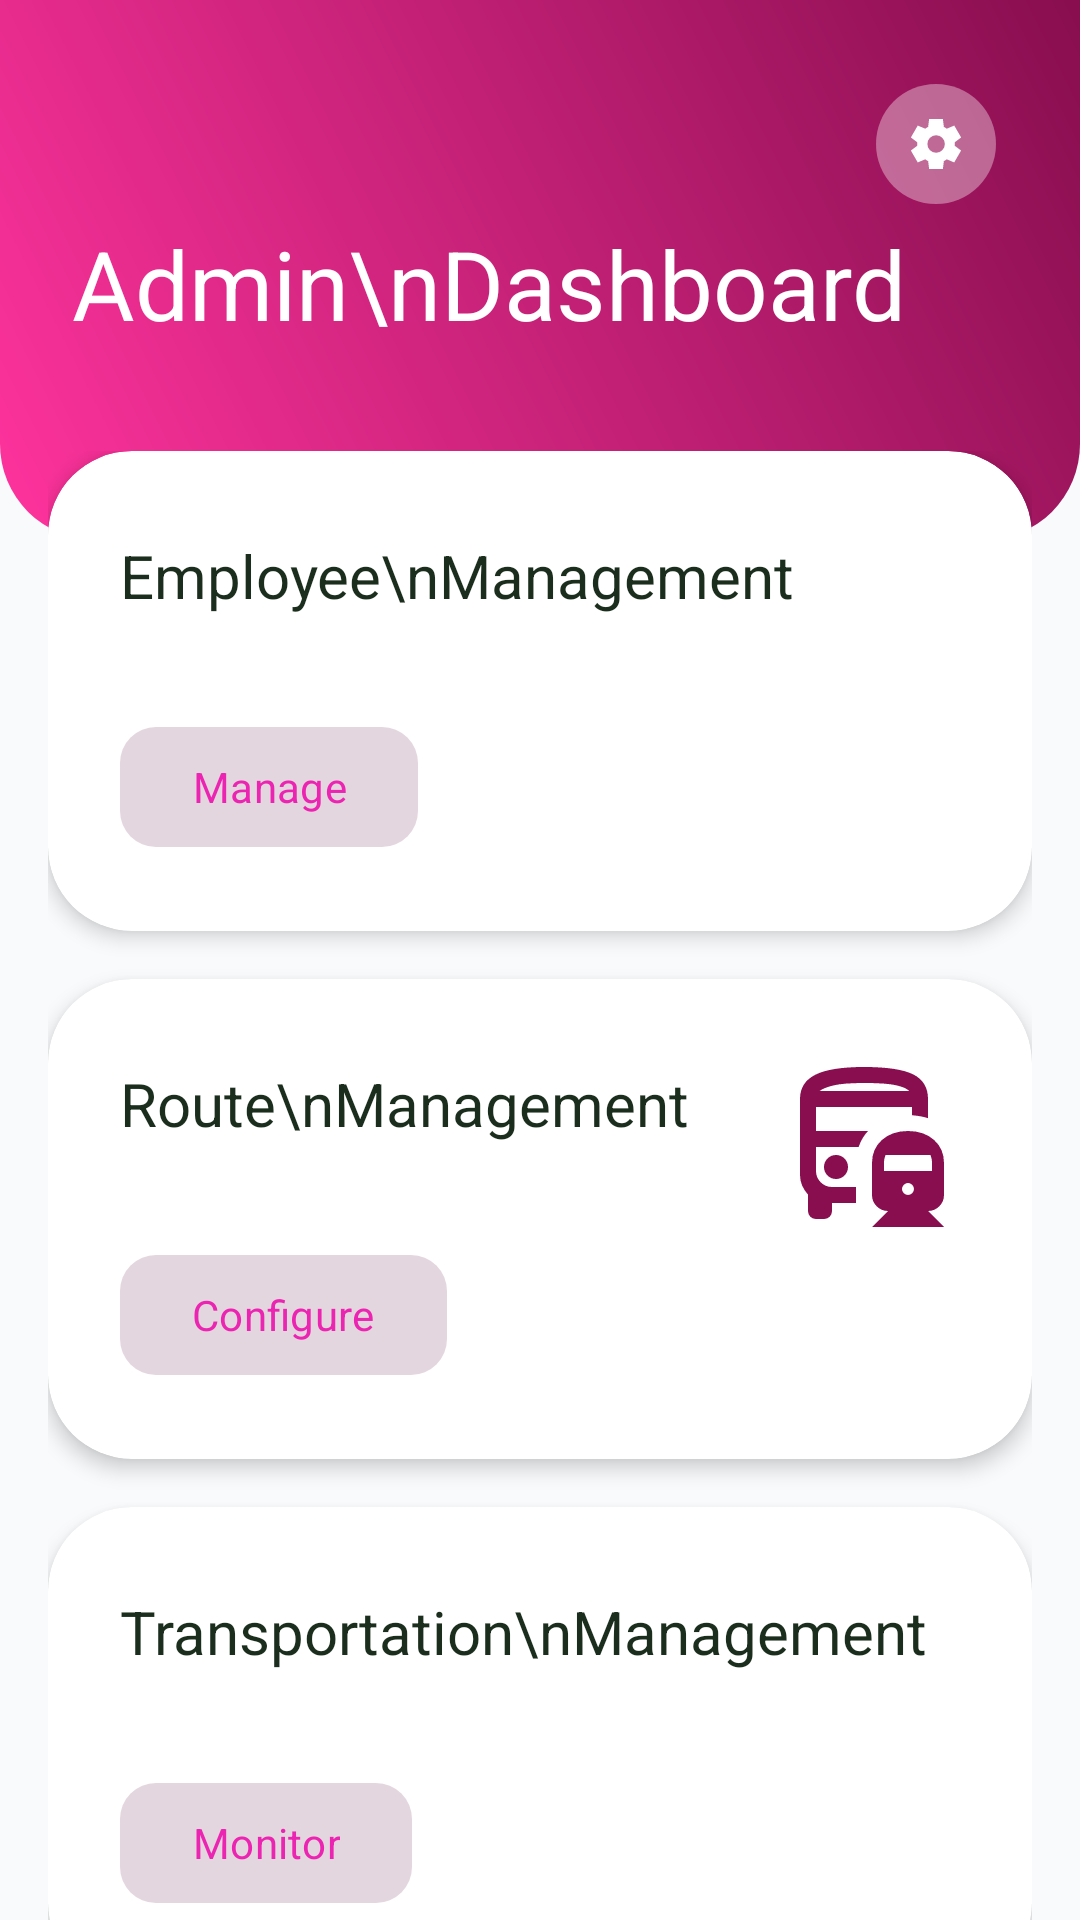

Screen size 1080×1920. Icon name, then its box in pixels as rect(x1, y1, x2, y2):
bus railway: rect(800, 1067, 944, 1227)
settings: rect(876, 84, 996, 204)
